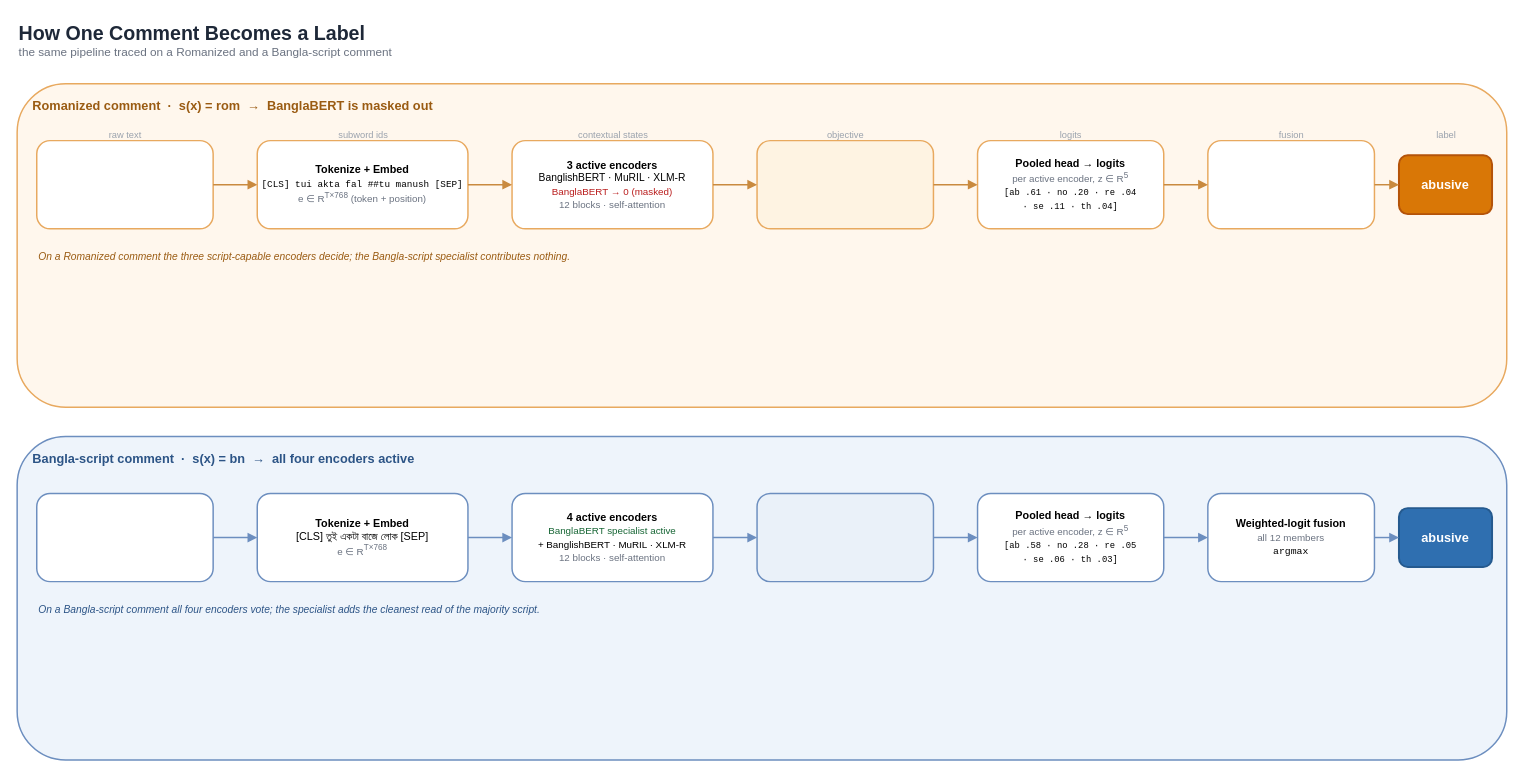
This 1525x777 diagram has some shape labels left out. The shapes that lost their labels are listed below. From the top down, each one's centre as x and y in pixels, then its label:
the point at 124,184: Input "tui akta faltu manush" (you are a worthless person)
the point at 845,184: CE + FGM (train) perturb faltu, manush r = ε·g/‖g‖ learns meaning, not spelling
the point at 1291,184: Weighted-logit fusion 9 members · renormalised argmax
the point at 124,537: Input তুই একটা বাজে লোক (you are a bad person)
the point at 845,537: CE + FGM (train) perturb বাজে, লোক r = ε·g/‖g‖ robust to spelling noise
